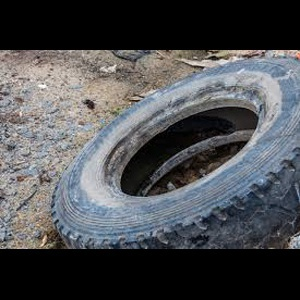tire: (51, 57, 300, 249)
